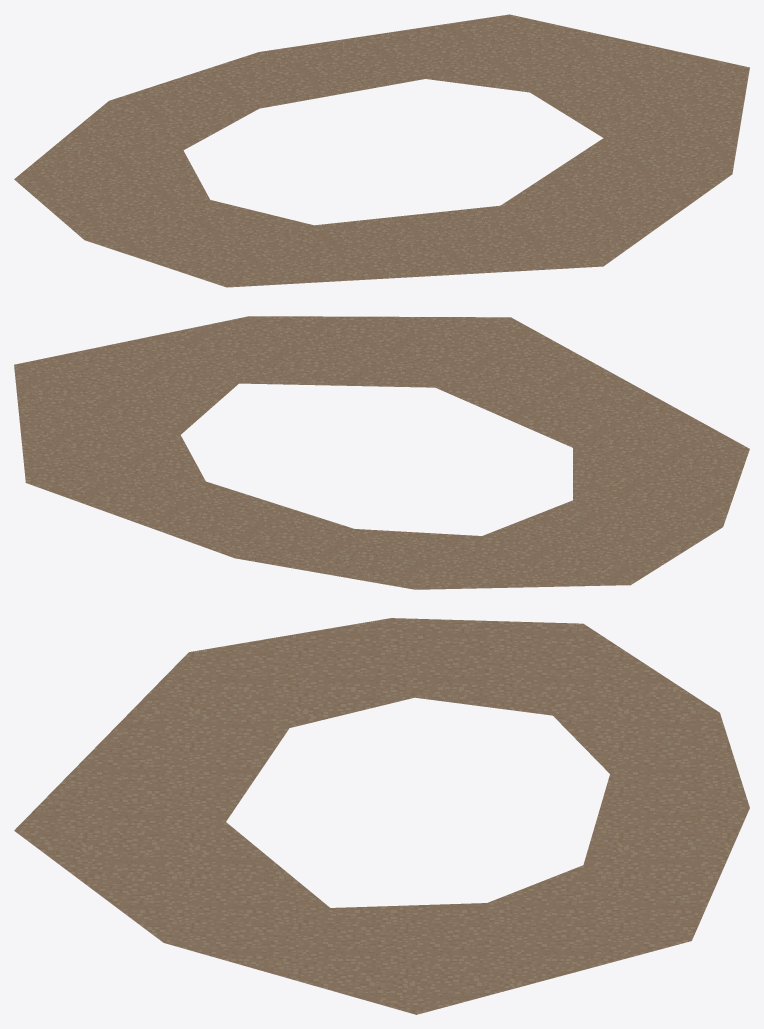
File: kd_stage_136282_5_72_bounded.glb
3 views of the same model, one above another, from view 1: azimuth 30°, elevation 25°; view 2: azimuth 150°, elevation 25°; view 3: azimuth 270°, elevation 25° (orthographic). The views are drawn at different scales.
Visible parts, largest first — view 1: kd_stage_136282_5_72_bounded; view 2: kd_stage_136282_5_72_bounded; view 3: kd_stage_136282_5_72_bounded.
Boxes of the visible parts, left/top/right/bottom form: kd_stage_136282_5_72_bounded: left=14, top=14, right=749, bottom=287; kd_stage_136282_5_72_bounded: left=14, top=316, right=749, bottom=589; kd_stage_136282_5_72_bounded: left=14, top=618, right=749, bottom=1014.
Size of the model in its own units: 14.83 by 4.77e-07 by 11.62.
1 material, 1 textured.
